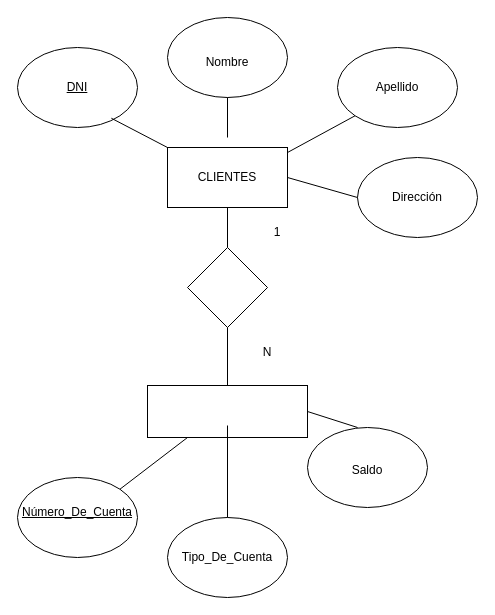
Image size: 495x615. Some labels were removed from this diagram. Here are the shapes that lost their labels. From the top down, the centre of each, then its label:
At pixel 227 287: "POSEE".
At pixel 227 411: "CUENTAS_BANCARIAS".
